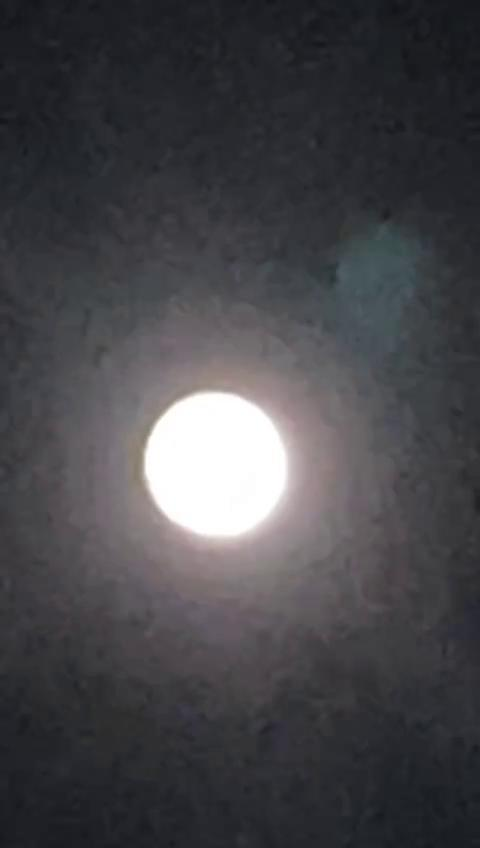moon: (138, 360, 304, 550)
